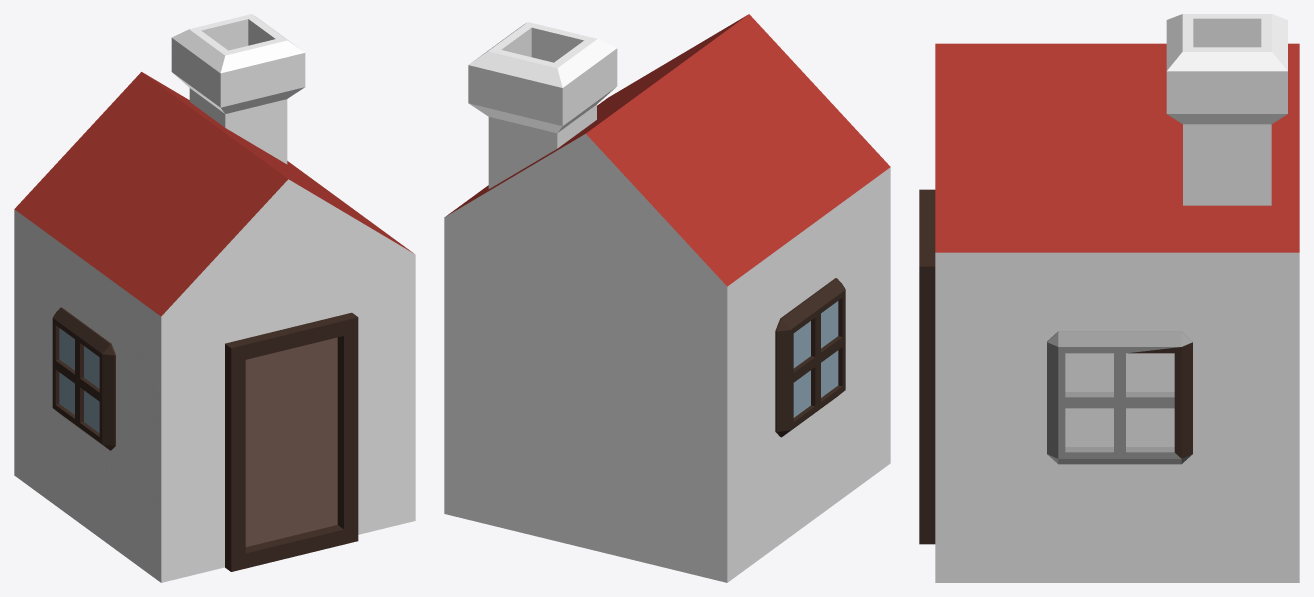
The model's file is house.obj.
3 views of the same model, side by side, from view 1: azimuth 30°, elevation 25°; view 2: azimuth 150°, elevation 25°; view 3: azimuth 270°, elevation 25° (orthographic). The views are drawn at different scales.
Visible parts, largest first — view 1: house_Plane; view 2: house_Plane; view 3: house_Plane.
Part boxes in pixels (x1,y1,x2,y2): house_Plane: (14, 14, 415, 582); house_Plane: (444, 14, 890, 582); house_Plane: (919, 14, 1299, 582).
Bounding box in the file's own units: 6.43 × 9.34 × 6.26.
Materials: 2 (1 with a texture image).
